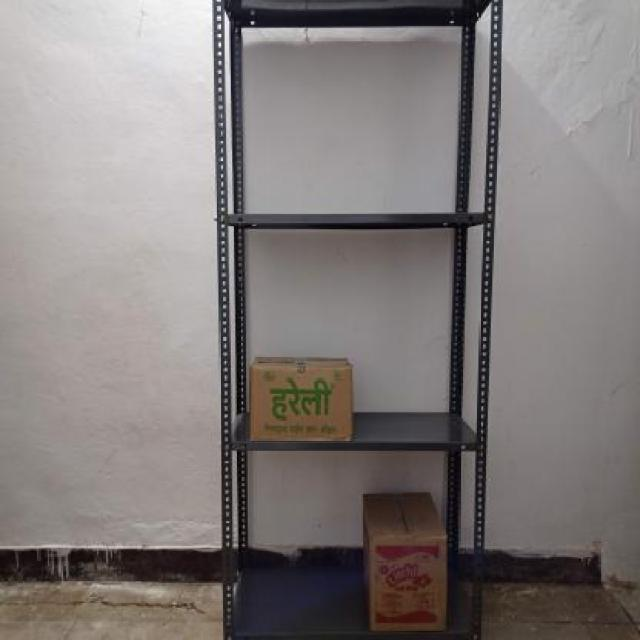box: (250, 367, 356, 442), (370, 534, 447, 632)
